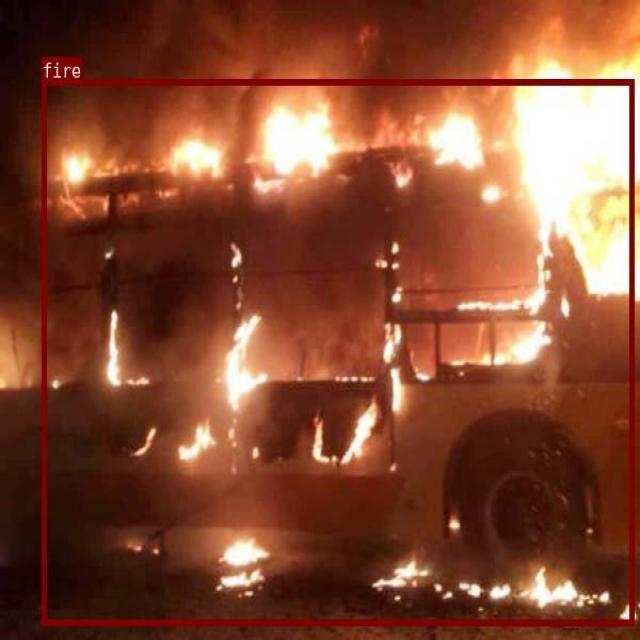fire: (41, 78, 633, 624)
